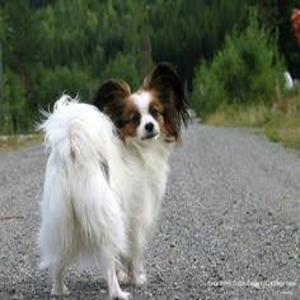yell: (36, 62, 188, 299)
